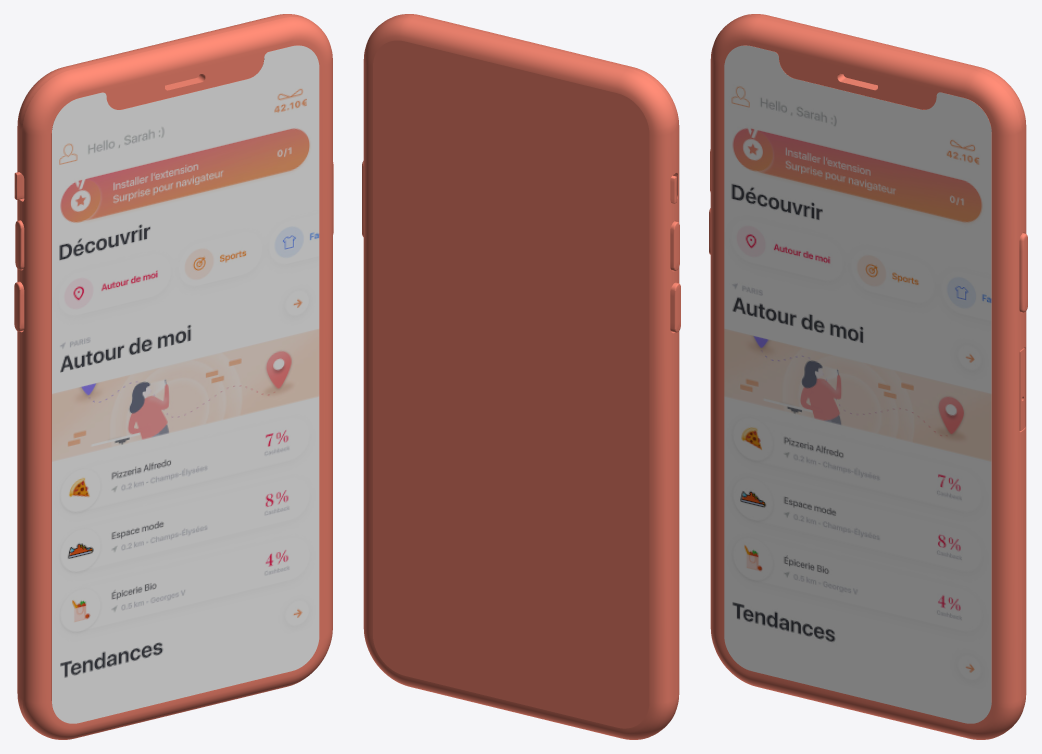
File: phone3d_fr.glb
The picture shows the model from 3 angles, left to right: view 1: azimuth 30°, elevation 25°; view 2: azimuth 150°, elevation 25°; view 3: azimuth 330°, elevation 25°; orthographic projection.
Visible parts, largest first — view 1: Ecran.001, Iphone.001, header_footer; view 2: Iphone.001; view 3: Ecran.001, Iphone.001, header_footer.
Boxes of the visible parts, box(x1,y1,x2,y2) form: Ecran.001: box(52, 62, 319, 691); Iphone.001: box(14, 14, 333, 739); header_footer: box(52, 45, 319, 723); Iphone.001: box(362, 14, 680, 739); Ecran.001: box(724, 62, 991, 691); Iphone.001: box(709, 14, 1027, 739); header_footer: box(724, 45, 991, 723).
Size of the model in its own units: 111 by 226 by 12.77.
Materials: 3 (1 with a texture image).
